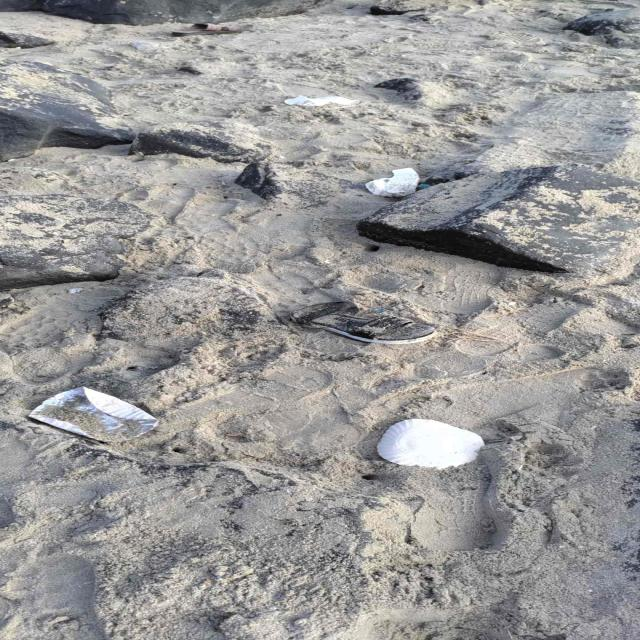other: (290, 302, 435, 344)
paper: (27, 388, 157, 442), (377, 419, 484, 470), (364, 167, 418, 196)
